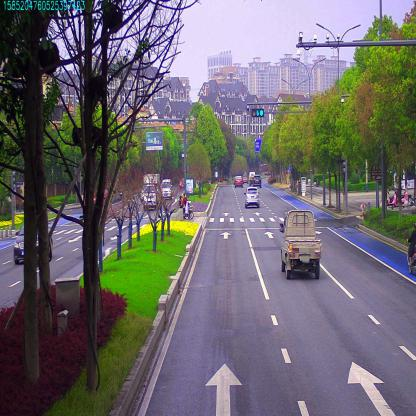traffic-light: (251, 109, 263, 118)
